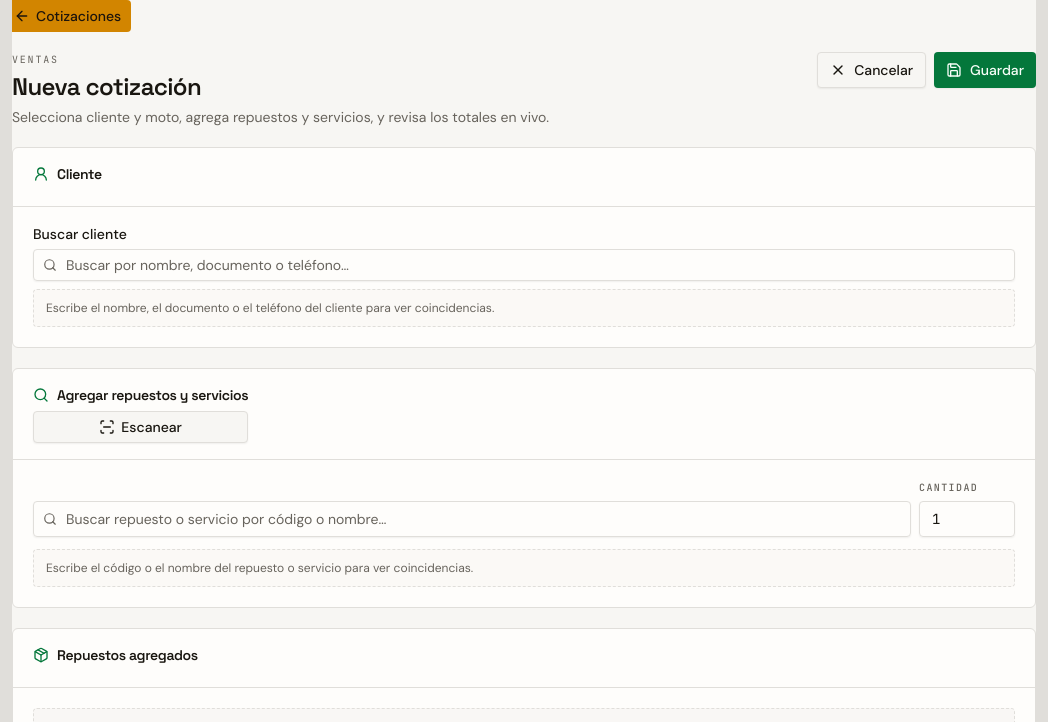
Test: QuoteDetailPage add-line editing (characterization) › computes the line amount as quantity × unit price and updates it on edit
expect the heading "Nueva cotización" is shown: met, box [12,71,201,102]
Type "balata" into the search field with test id "quote_detail.item_search_input" at [472, 519], box [33,501,911,537]
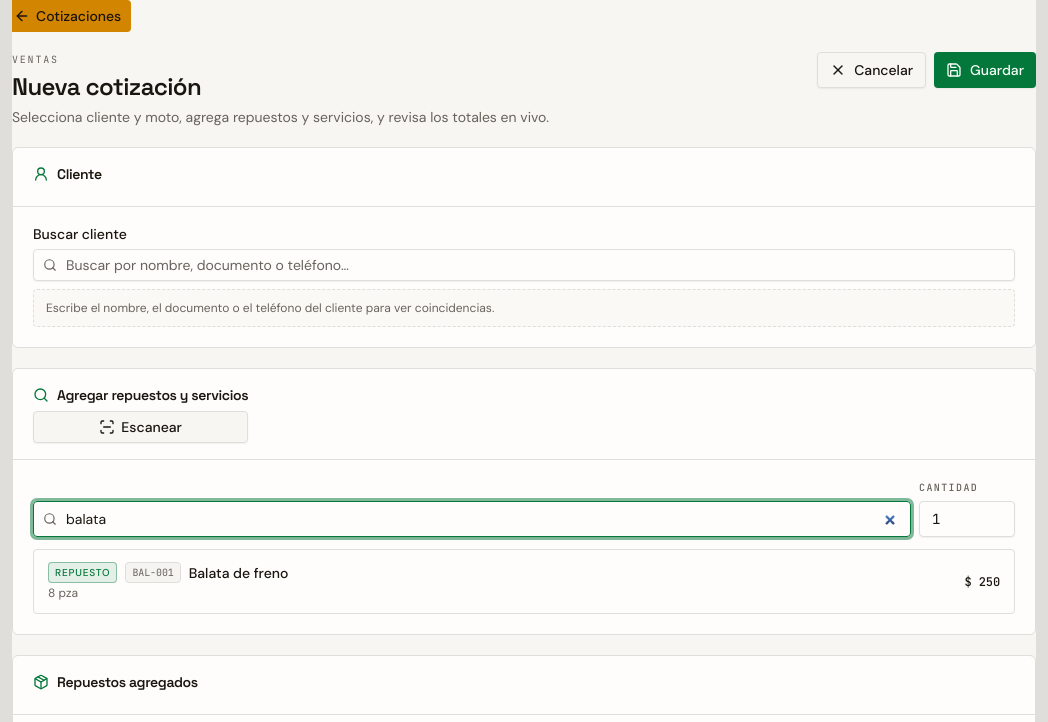
Click the button with test id "quote_detail.item_search.item.1" at [83, 572], box [38,554,1010,609]
(page scrolled)
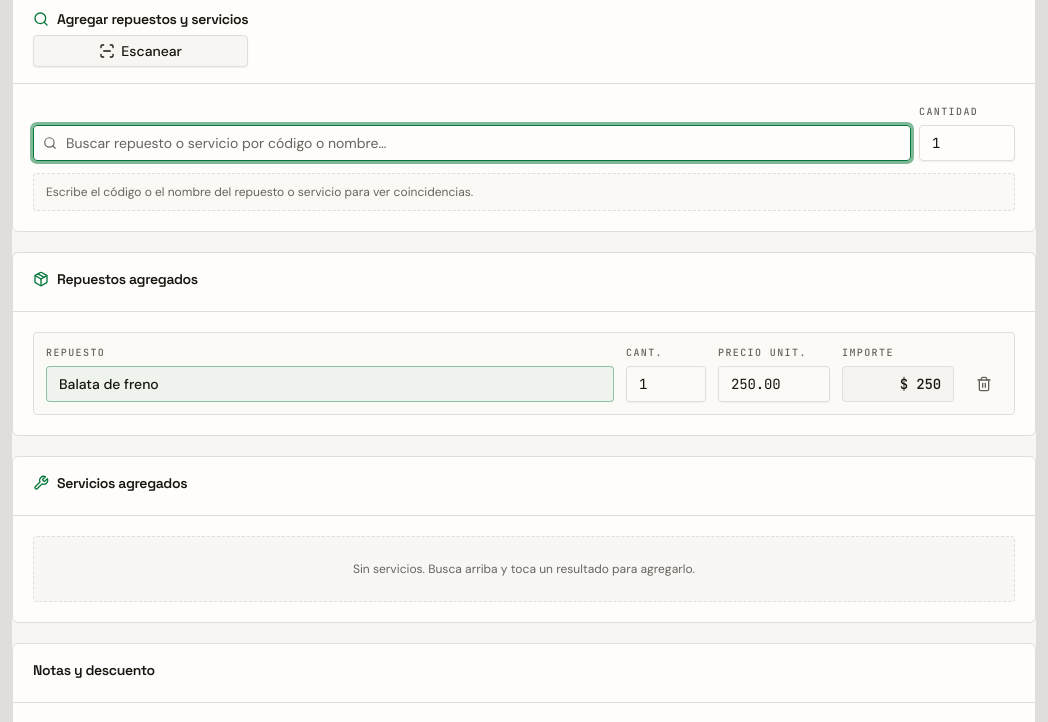
Replace the text in the number field with test id "quote_detail.part_quantity_input.1" with "3" at [666, 384], box [626,366,706,402]
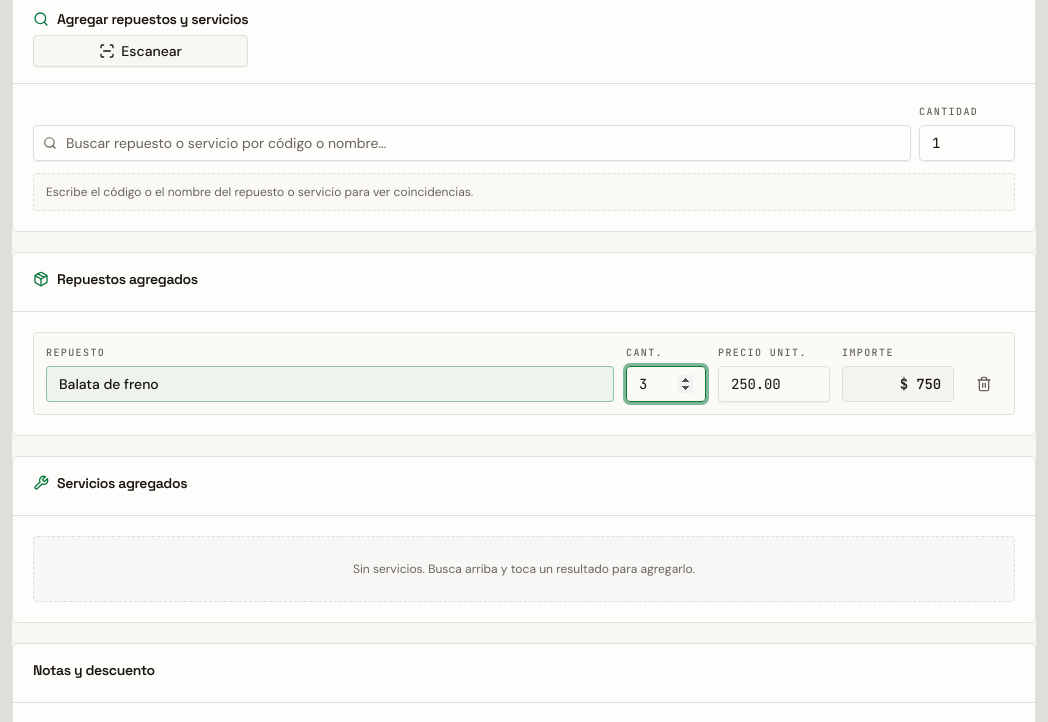
expect the text with test id "quote_detail.part_amount.1" reads "$ 750": met, box [900,375,941,393]
Replace the text in the number field with test id "quote_detail.part_price_input.1" with "100" at [774, 384], box [718,366,830,402]
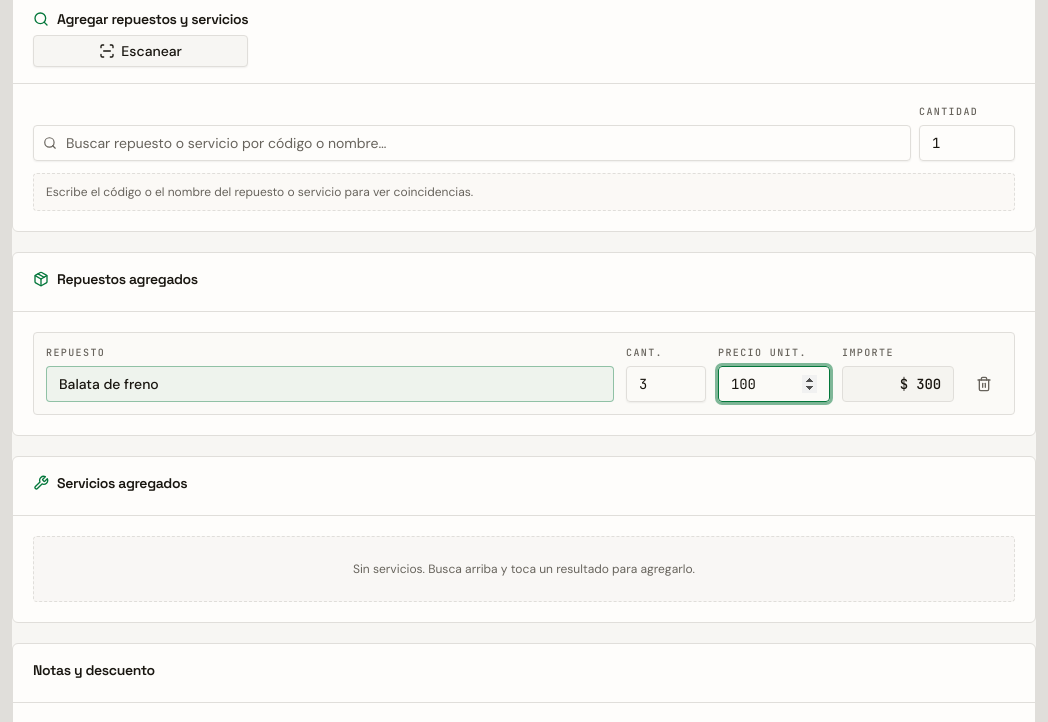
expect the text with test id "quote_detail.part_amount.1" reads "$ 300": met, box [900,375,941,393]
